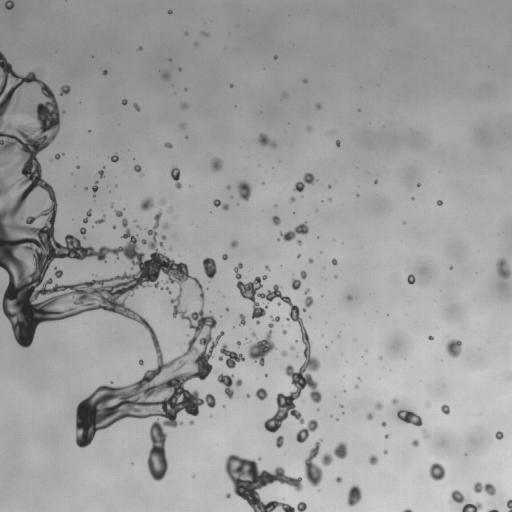droplet: (217, 372, 242, 399), (218, 344, 246, 368), (293, 172, 318, 192), (397, 410, 422, 426), (444, 336, 462, 358), (236, 179, 252, 201), (346, 484, 362, 506), (428, 462, 446, 481), (256, 133, 277, 149), (495, 258, 511, 279), (139, 196, 155, 211), (449, 489, 465, 503), (209, 157, 223, 172), (255, 387, 267, 400), (15, 65, 26, 76), (55, 94, 66, 105), (35, 150, 46, 161), (82, 196, 93, 207), (106, 213, 117, 224), (135, 228, 146, 239), (53, 231, 64, 242), (226, 256, 237, 267), (296, 258, 307, 269), (194, 266, 205, 277), (260, 281, 271, 292), (280, 284, 291, 295), (292, 295, 303, 306), (242, 300, 253, 311), (0, 318, 11, 329), (35, 321, 46, 332), (238, 325, 249, 336), (4, 329, 15, 340), (237, 344, 248, 355), (244, 356, 255, 367), (228, 366, 239, 377), (309, 369, 320, 380), (206, 371, 217, 382), (183, 380, 194, 391), (284, 382, 295, 393), (214, 390, 225, 401), (265, 394, 276, 405), (267, 403, 278, 414), (176, 409, 187, 420), (301, 410, 312, 421), (373, 410, 384, 421), (66, 412, 77, 423), (291, 420, 302, 431), (307, 431, 318, 442), (284, 433, 295, 444), (303, 438, 314, 449), (162, 442, 173, 453), (323, 443, 334, 454), (295, 466, 306, 477), (223, 480, 234, 491), (256, 487, 267, 498), (258, 491, 269, 502), (464, 492, 475, 503), (59, 85, 71, 95), (107, 152, 119, 162), (53, 266, 63, 278), (291, 278, 301, 290), (275, 435, 284, 448), (114, 207, 125, 217), (368, 454, 378, 465), (238, 313, 246, 326), (271, 215, 281, 225), (440, 404, 450, 414), (161, 70, 170, 80), (406, 274, 415, 284), (5, 0, 14, 9), (168, 66, 177, 75), (169, 69, 178, 78), (6, 77, 15, 86), (51, 85, 60, 94), (179, 92, 188, 101), (202, 159, 211, 168), (220, 161, 229, 170), (40, 171, 49, 180), (230, 186, 239, 195), (147, 207, 156, 216), (91, 210, 100, 219), (102, 220, 111, 229), (119, 238, 128, 247), (225, 246, 234, 255), (214, 258, 223, 267), (303, 263, 312, 272), (488, 263, 497, 272), (491, 271, 500, 280), (299, 279, 308, 288), (281, 303, 290, 312), (210, 327, 219, 336), (256, 331, 265, 340), (227, 342, 236, 351), (459, 343, 468, 352), (438, 344, 447, 353), (212, 347, 221, 356), (439, 347, 448, 356), (263, 352, 272, 361), (281, 356, 290, 365), (222, 366, 231, 375), (302, 385, 311, 394), (382, 398, 391, 407), (197, 403, 206, 412), (161, 424, 170, 433), (381, 439, 390, 448), (163, 449, 172, 458), (243, 451, 252, 460), (312, 456, 321, 465), (255, 463, 264, 472), (319, 464, 328, 473), (284, 468, 293, 477), (300, 477, 309, 486), (281, 482, 290, 491), (340, 489, 349, 498), (354, 500, 363, 509), (503, 371, 511, 380), (495, 430, 503, 439), (411, 438, 419, 447), (505, 258, 511, 269), (243, 505, 254, 511), (348, 505, 359, 511), (180, 102, 188, 110), (230, 240, 238, 248), (133, 102, 140, 111), (0, 197, 5, 208), (0, 267, 5, 278), (0, 285, 5, 296), (200, 31, 209, 37), (281, 91, 287, 100), (300, 270, 306, 279), (179, 122, 186, 129), (158, 198, 165, 205), (280, 350, 287, 357), (424, 400, 431, 407), (335, 476, 342, 483), (5, 56, 12, 63), (11, 64, 18, 71), (58, 114, 65, 121), (252, 132, 259, 139), (267, 133, 274, 140), (263, 144, 270, 151), (216, 152, 223, 159), (215, 169, 222, 176), (3, 178, 10, 185), (303, 182, 310, 189), (326, 189, 333, 196), (293, 190, 300, 197), (248, 191, 255, 198), (137, 195, 144, 202), (237, 197, 244, 204), (152, 198, 159, 205), (227, 199, 234, 206), (158, 216, 165, 223), (126, 221, 133, 228), (288, 224, 295, 231), (118, 226, 125, 233), (155, 226, 162, 233), (73, 231, 80, 238), (294, 232, 301, 239), (145, 234, 152, 241), (58, 238, 65, 245), (288, 238, 295, 245), (80, 240, 87, 247), (92, 244, 99, 251), (295, 245, 302, 252), (143, 253, 150, 260), (300, 254, 307, 261), (241, 277, 248, 284), (298, 284, 305, 291), (302, 320, 309, 327), (138, 323, 145, 330), (142, 328, 149, 335), (295, 332, 302, 339), (452, 333, 459, 340), (269, 335, 276, 342), (250, 337, 257, 344), (12, 341, 19, 348), (298, 342, 305, 349), (213, 345, 220, 352), (309, 350, 316, 357), (242, 351, 249, 358), (207, 357, 214, 364), (150, 362, 157, 369), (260, 365, 267, 372), (135, 373, 142, 380), (285, 375, 292, 382), (218, 382, 225, 389), (229, 383, 236, 390), (289, 384, 296, 391), (315, 384, 322, 391), (346, 384, 353, 391), (198, 392, 205, 399), (79, 393, 86, 400), (250, 393, 257, 400), (310, 401, 317, 408), (394, 403, 401, 410), (367, 405, 374, 412), (333, 409, 340, 416), (186, 413, 193, 420), (286, 413, 293, 420), (311, 413, 318, 420), (149, 415, 156, 422), (280, 419, 287, 426), (301, 421, 308, 428), (381, 426, 388, 433), (94, 429, 101, 436), (273, 429, 280, 436), (417, 436, 424, 443), (281, 439, 288, 446), (70, 440, 77, 447), (145, 441, 152, 448), (83, 444, 90, 451), (345, 446, 352, 453), (302, 451, 309, 458), (376, 452, 383, 459), (331, 454, 338, 461), (362, 455, 369, 462), (219, 462, 226, 469), (441, 462, 448, 469), (367, 463, 374, 470), (370, 463, 377, 470), (423, 464, 430, 471), (142, 465, 149, 472), (143, 468, 150, 475), (163, 471, 170, 478), (438, 477, 445, 484), (431, 478, 438, 485), (272, 479, 279, 486), (359, 488, 366, 495), (479, 488, 486, 495), (240, 498, 247, 505), (290, 501, 297, 508), (457, 501, 464, 508), (315, 102, 321, 110), (164, 142, 172, 148), (167, 205, 173, 213), (273, 506, 282, 511), (499, 506, 508, 511), (306, 125, 312, 132), (289, 196, 295, 203), (162, 223, 169, 229), (222, 253, 228, 260), (331, 258, 337, 265), (391, 398, 398, 404), (302, 78, 308, 84), (121, 99, 127, 105), (264, 265, 270, 271), (346, 294, 352, 300), (381, 421, 387, 427), (436, 200, 443, 205), (138, 358, 143, 365), (336, 139, 340, 147), (102, 69, 107, 75), (226, 184, 231, 190), (296, 239, 301, 245), (282, 328, 287, 334), (428, 335, 434, 340), (289, 345, 295, 350), (357, 376, 362, 382), (507, 274, 511, 281), (194, 41, 199, 46), (373, 179, 378, 184), (327, 197, 332, 202), (308, 258, 313, 263), (324, 345, 329, 350), (354, 384, 359, 389), (189, 420, 194, 425), (383, 449, 388, 454), (0, 0, 5, 5), (11, 6, 16, 11), (203, 27, 208, 32), (201, 35, 206, 40), (30, 67, 35, 72), (106, 71, 111, 76), (156, 72, 161, 77), (34, 73, 39, 78), (303, 73, 308, 78), (65, 80, 70, 85), (304, 82, 309, 87), (3, 88, 8, 93), (68, 89, 73, 94), (62, 93, 67, 98), (137, 102, 142, 107), (320, 102, 325, 107), (310, 104, 315, 109), (130, 106, 135, 111), (57, 107, 62, 112), (318, 108, 323, 113), (53, 136, 58, 141), (168, 138, 173, 143), (164, 146, 169, 151), (131, 160, 136, 165), (137, 160, 142, 165), (97, 165, 102, 170), (140, 167, 145, 172), (307, 168, 312, 173), (178, 173, 183, 178), (312, 173, 317, 178), (177, 177, 182, 182), (46, 179, 51, 184), (171, 179, 176, 184), (290, 183, 295, 188), (51, 185, 56, 190), (109, 185, 114, 190), (87, 186, 92, 191), (178, 187, 183, 192), (54, 194, 59, 199), (322, 195, 327, 200), (55, 198, 60, 203), (220, 199, 225, 204), (323, 199, 328, 204), (217, 204, 222, 209), (211, 205, 216, 210), (117, 206, 122, 211), (81, 212, 86, 217), (121, 213, 126, 218), (277, 213, 282, 218), (54, 214, 59, 219), (96, 214, 101, 219), (87, 216, 92, 221), (117, 216, 122, 221), (150, 218, 155, 223), (267, 218, 272, 223), (298, 219, 303, 224), (53, 220, 58, 225), (81, 222, 86, 227), (305, 222, 310, 227), (147, 224, 152, 229), (282, 228, 287, 233), (129, 230, 134, 235), (165, 234, 170, 239), (155, 235, 160, 240), (230, 235, 235, 240), (125, 236, 130, 241), (279, 236, 284, 241), (226, 238, 231, 243), (135, 240, 140, 245), (236, 242, 241, 247), (113, 243, 118, 248), (149, 248, 154, 253), (219, 249, 224, 254), (207, 253, 212, 258), (309, 253, 314, 258), (201, 254, 206, 259), (312, 256, 317, 261), (174, 258, 179, 263), (237, 268, 242, 273), (262, 269, 267, 274), (187, 270, 192, 275), (213, 272, 218, 277), (296, 274, 301, 279), (233, 278, 238, 283), (259, 279, 264, 284), (287, 280, 292, 285), (201, 283, 206, 288), (234, 287, 239, 292), (256, 288, 261, 293), (203, 291, 208, 296), (280, 291, 285, 296), (306, 291, 311, 296), (350, 291, 355, 296), (341, 295, 346, 300), (274, 296, 279, 301), (312, 298, 317, 303), (247, 299, 252, 304), (347, 299, 352, 304), (280, 300, 285, 305), (291, 300, 296, 305), (309, 303, 314, 308), (297, 305, 302, 310), (305, 306, 310, 311), (98, 307, 103, 312), (90, 309, 95, 314), (103, 309, 108, 314), (84, 310, 89, 315), (107, 310, 112, 315), (222, 310, 227, 315), (298, 310, 303, 315), (202, 312, 207, 317), (70, 315, 75, 320), (257, 315, 262, 320), (65, 316, 70, 321), (123, 316, 128, 321), (235, 317, 240, 322), (59, 318, 64, 323), (272, 320, 277, 325), (293, 320, 298, 325), (264, 326, 269, 331), (270, 326, 275, 331), (306, 331, 311, 336), (210, 336, 215, 341), (239, 337, 244, 342), (148, 339, 153, 344), (290, 340, 295, 345), (327, 342, 332, 347), (222, 354, 227, 359), (282, 362, 287, 367), (293, 367, 298, 372), (280, 368, 285, 373), (194, 376, 199, 381), (231, 377, 236, 382), (354, 379, 359, 384), (97, 381, 102, 386), (105, 381, 110, 386), (111, 382, 116, 387), (240, 382, 245, 387), (93, 383, 98, 388), (262, 384, 267, 389), (254, 385, 259, 390), (222, 393, 227, 398), (231, 393, 236, 398), (391, 393, 396, 398), (320, 394, 325, 399), (214, 398, 219, 403), (439, 400, 444, 405), (444, 400, 449, 405), (207, 406, 212, 411), (407, 406, 412, 411), (448, 406, 453, 411), (413, 409, 418, 414), (439, 411, 444, 416), (300, 413, 305, 418), (337, 413, 342, 418), (361, 413, 366, 418), (123, 416, 128, 421), (381, 416, 386, 421), (135, 417, 140, 422), (420, 417, 425, 422), (366, 419, 371, 424), (385, 419, 390, 424), (114, 420, 119, 425), (401, 420, 406, 425), (259, 422, 264, 427), (407, 422, 412, 427), (316, 423, 321, 428), (175, 424, 180, 429), (189, 424, 194, 429), (260, 425, 265, 430), (415, 425, 420, 430), (314, 427, 319, 432), (307, 430, 312, 435), (291, 433, 296, 438), (490, 433, 495, 438), (408, 436, 413, 441), (495, 438, 500, 443), (294, 440, 299, 445), (409, 444, 414, 449), (143, 456, 148, 461), (337, 472, 342, 477), (331, 474, 336, 479), (471, 479, 476, 484), (332, 480, 337, 485), (490, 480, 495, 485), (221, 490, 226, 495), (446, 492, 451, 497), (276, 497, 281, 502), (470, 499, 475, 504), (502, 499, 507, 504), (461, 500, 466, 505), (404, 504, 409, 509), (489, 504, 494, 509), (136, 46, 142, 50), (0, 67, 3, 74), (0, 76, 3, 83), (0, 94, 3, 101), (0, 165, 3, 172), (0, 266, 3, 273), (0, 306, 3, 313), (168, 9, 172, 14), (273, 54, 277, 59), (188, 184, 192, 189), (327, 184, 331, 189), (112, 224, 116, 229), (161, 235, 166, 239), (297, 253, 301, 258), (246, 393, 250, 398), (338, 404, 343, 408), (178, 67, 182, 71), (229, 83, 233, 87), (75, 165, 79, 169), (261, 181, 265, 185), (417, 183, 421, 187), (84, 186, 88, 190), (355, 193, 359, 197), (410, 196, 414, 200), (225, 307, 229, 311), (336, 334, 340, 338), (294, 339, 298, 343), (222, 404, 226, 408), (335, 417, 339, 421), (273, 204, 278, 207), (169, 246, 172, 251), (449, 265, 452, 270), (379, 355, 382, 360), (293, 508, 298, 511), (303, 508, 308, 511), (184, 32, 188, 35), (357, 108, 361, 111), (184, 135, 188, 138), (230, 195, 233, 199), (174, 215, 178, 218), (133, 219, 137, 222), (308, 315, 311, 319), (320, 334, 324, 337), (264, 373, 267, 377), (342, 389, 346, 392), (130, 462, 134, 465), (0, 127, 2, 132), (0, 135, 2, 140), (0, 299, 2, 304), (0, 303, 2, 308), (168, 58, 171, 61), (184, 88, 187, 91), (88, 129, 91, 132), (132, 157, 135, 160), (114, 184, 117, 187), (315, 208, 318, 211), (403, 221, 406, 224), (332, 238, 335, 241), (322, 266, 325, 269), (334, 275, 337, 278), (222, 294, 225, 297), (386, 313, 389, 316), (324, 321, 327, 324), (186, 334, 189, 337), (330, 340, 333, 343), (364, 349, 367, 352), (316, 408, 319, 411), (341, 411, 344, 414), (209, 414, 212, 417), (329, 414, 332, 417), (464, 452, 467, 455), (5, 8, 8, 11), (172, 9, 175, 12), (164, 10, 167, 13), (166, 13, 169, 16), (169, 13, 172, 16), (135, 45, 138, 48), (141, 45, 144, 48), (137, 49, 140, 52), (91, 52, 94, 55), (166, 55, 169, 58), (270, 55, 273, 58), (275, 58, 278, 61), (178, 64, 181, 67), (101, 67, 104, 70), (181, 67, 184, 70), (106, 68, 109, 71), (175, 69, 178, 72), (229, 80, 232, 83), (300, 81, 303, 84), (183, 84, 186, 87), (226, 84, 229, 87), (232, 85, 235, 88), (186, 87, 189, 90), (229, 87, 232, 90), (181, 88, 184, 91), (118, 100, 121, 103), (126, 101, 129, 104), (138, 110, 141, 113), (357, 111, 360, 114), (87, 126, 90, 129), (84, 129, 87, 132), (89, 131, 92, 134), (185, 132, 188, 135), (181, 134, 184, 137), (184, 138, 187, 141), (339, 142, 342, 145), (161, 143, 164, 146), (333, 143, 336, 146), (58, 151, 61, 154), (116, 153, 119, 156), (59, 154, 62, 157), (108, 154, 111, 157), (129, 156, 132, 159), (52, 157, 55, 160), (107, 157, 110, 160), (111, 161, 114, 164), (75, 162, 78, 165), (79, 165, 82, 168), (268, 165, 271, 168), (76, 168, 79, 171), (102, 168, 105, 171), (168, 168, 171, 171), (135, 171, 138, 174), (102, 172, 105, 175), (96, 173, 99, 176), (371, 179, 374, 182), (258, 180, 261, 183), (376, 181, 379, 184), (414, 181, 417, 184), (224, 182, 227, 185), (329, 182, 332, 185), (96, 183, 99, 186), (324, 184, 327, 187), (419, 184, 422, 187), (330, 186, 333, 189), (415, 186, 418, 189), (95, 190, 98, 193), (359, 193, 362, 196), (353, 195, 356, 198), (413, 195, 416, 198), (217, 196, 220, 199), (320, 196, 323, 199), (356, 196, 359, 199), (438, 196, 441, 199), (411, 199, 414, 202), (441, 199, 444, 202), (291, 201, 294, 204), (433, 201, 436, 204), (107, 203, 110, 206), (441, 203, 444, 206), (122, 204, 125, 207), (436, 204, 439, 207), (89, 205, 92, 208), (85, 208, 88, 211), (121, 209, 124, 212), (90, 210, 93, 213), (112, 211, 115, 214), (289, 211, 292, 214), (294, 211, 297, 214), (100, 221, 103, 224), (135, 221, 138, 224), (139, 224, 142, 227), (109, 226, 112, 229), (85, 229, 88, 232), (83, 232, 86, 235), (318, 234, 321, 237), (273, 237, 276, 240), (315, 238, 318, 241), (294, 253, 297, 256), (299, 255, 302, 258), (226, 257, 229, 260), (223, 259, 226, 262), (305, 259, 308, 262), (336, 260, 339, 263), (241, 262, 244, 265), (329, 262, 332, 265), (333, 264, 336, 267), (268, 265, 271, 268), (446, 265, 449, 268), (451, 267, 454, 270), (233, 272, 236, 275), (305, 274, 308, 277), (336, 275, 339, 278), (404, 275, 407, 278), (331, 276, 334, 279), (404, 279, 407, 282), (276, 282, 279, 285), (409, 283, 412, 286), (222, 307, 225, 310), (228, 307, 231, 310), (238, 310, 241, 313), (386, 310, 389, 313), (272, 315, 275, 318), (386, 315, 389, 318), (338, 332, 341, 335), (428, 332, 431, 335), (281, 333, 284, 336), (426, 338, 429, 341), (325, 342, 328, 345), (322, 347, 325, 350), (381, 354, 384, 357), (142, 360, 145, 363), (136, 362, 139, 365), (261, 373, 264, 376), (267, 373, 270, 376), (356, 373, 359, 376), (359, 375, 362, 378), (351, 383, 354, 386), (343, 386, 346, 389), (344, 391, 347, 394), (243, 394, 246, 397), (246, 397, 249, 400), (340, 401, 343, 404), (343, 404, 346, 407), (340, 407, 343, 410), (394, 411, 397, 414), (332, 415, 335, 418), (338, 418, 341, 421), (335, 420, 338, 423), (378, 421, 381, 424), (499, 428, 502, 431), (494, 429, 497, 432), (387, 434, 390, 437), (502, 434, 505, 437), (381, 435, 384, 438), (384, 446, 387, 449), (387, 449, 390, 452), (466, 451, 469, 454), (464, 455, 467, 458), (132, 459, 135, 462), (194, 475, 197, 478), (258, 164, 260, 167), (71, 172, 73, 175), (108, 191, 111, 193), (219, 315, 222, 317), (287, 324, 290, 326), (317, 489, 320, 491), (509, 496, 511, 499), (79, 101, 81, 103), (234, 105, 236, 107), (321, 200, 323, 202), (237, 203, 239, 205), (209, 211, 211, 213), (293, 212, 295, 214), (317, 236, 319, 238), (320, 251, 322, 253), (280, 265, 282, 267), (292, 273, 294, 275), (206, 287, 208, 289), (321, 295, 323, 297), (233, 326, 235, 328), (354, 338, 356, 340), (345, 360, 347, 362), (343, 375, 345, 377), (333, 395, 335, 397), (4, 0, 7, 1), (11, 0, 14, 1), (65, 0, 67, 1), (272, 167, 274, 168), (74, 185, 75, 187)
ligament: (233, 262, 321, 433), (303, 438, 323, 487), (320, 441, 347, 466), (277, 221, 309, 241), (295, 419, 318, 443), (202, 257, 217, 282), (472, 481, 496, 496), (365, 401, 383, 420), (170, 165, 182, 189), (302, 288, 313, 312), (461, 501, 482, 511), (213, 198, 229, 210), (82, 208, 92, 223), (133, 164, 144, 177), (49, 152, 64, 161), (92, 180, 98, 201), (420, 427, 429, 439), (94, 214, 105, 223), (98, 165, 105, 178), (80, 227, 86, 239), (506, 499, 511, 511), (400, 508, 413, 511), (486, 508, 499, 511), (384, 434, 391, 438), (192, 472, 195, 479), (110, 202, 113, 208), (91, 273, 97, 276), (301, 399, 305, 403), (91, 225, 95, 228), (296, 353, 298, 357)
